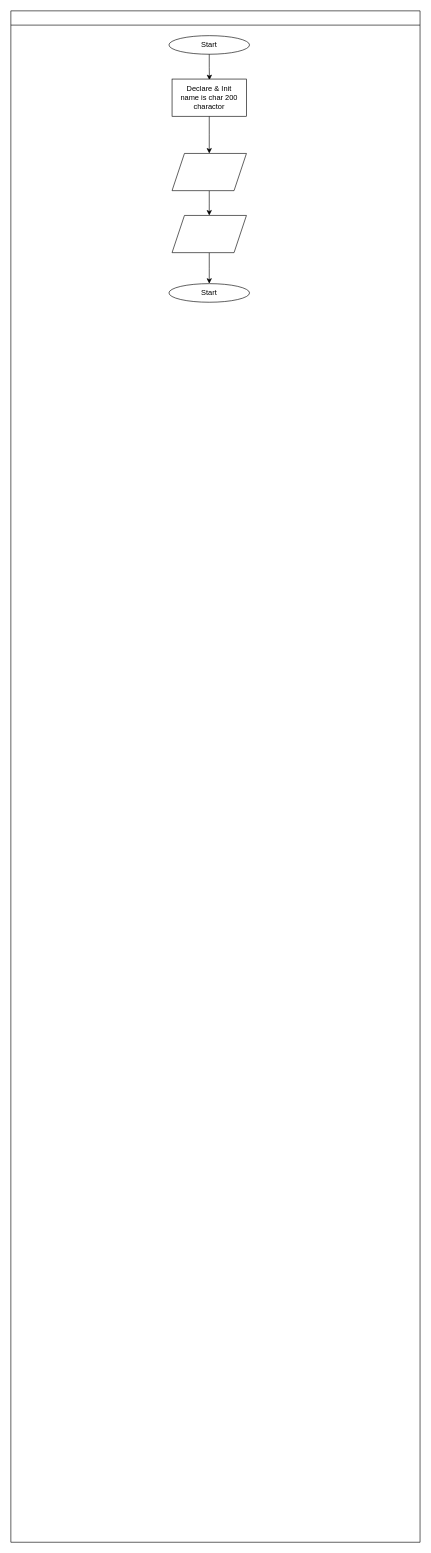
Image size: 431x1553. Some labels were removed from this diagram. The box of each missing label's shape, as (x1, y1, x2, y2) in pixels:
Display name: (171, 215, 246, 253)
Read name: (171, 153, 246, 191)
